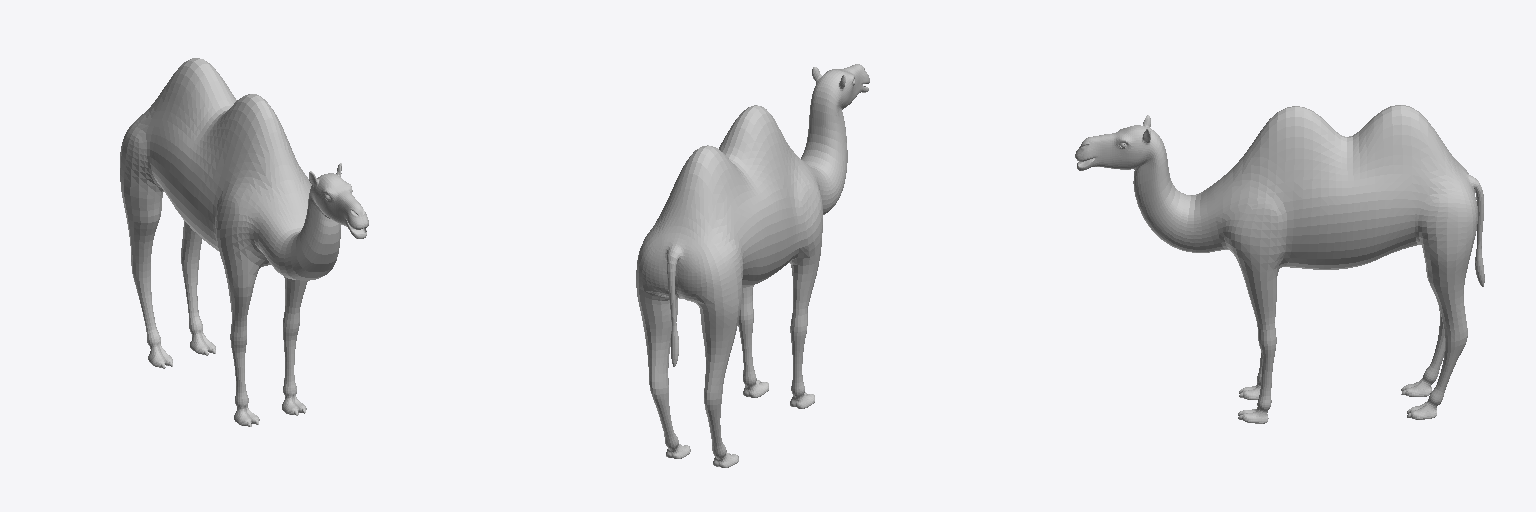
The model's file is camel.obj.
3 renders of one model, left to right at view 1: azimuth 30°, elevation 25°; view 2: azimuth 150°, elevation 25°; view 3: azimuth 270°, elevation 25°, orthographic.
Visible parts, largest first — view 1: bactrian_camel; view 2: bactrian_camel; view 3: bactrian_camel.
Boxes of the visible parts, x1=… form: bactrian_camel: x1=120, y1=58, x2=368, y2=426; bactrian_camel: x1=636, y1=64, x2=869, y2=467; bactrian_camel: x1=1075, y1=105, x2=1484, y2=423.
Bounding box in the file's own units: 0.7363 × 2.09 × 2.54.